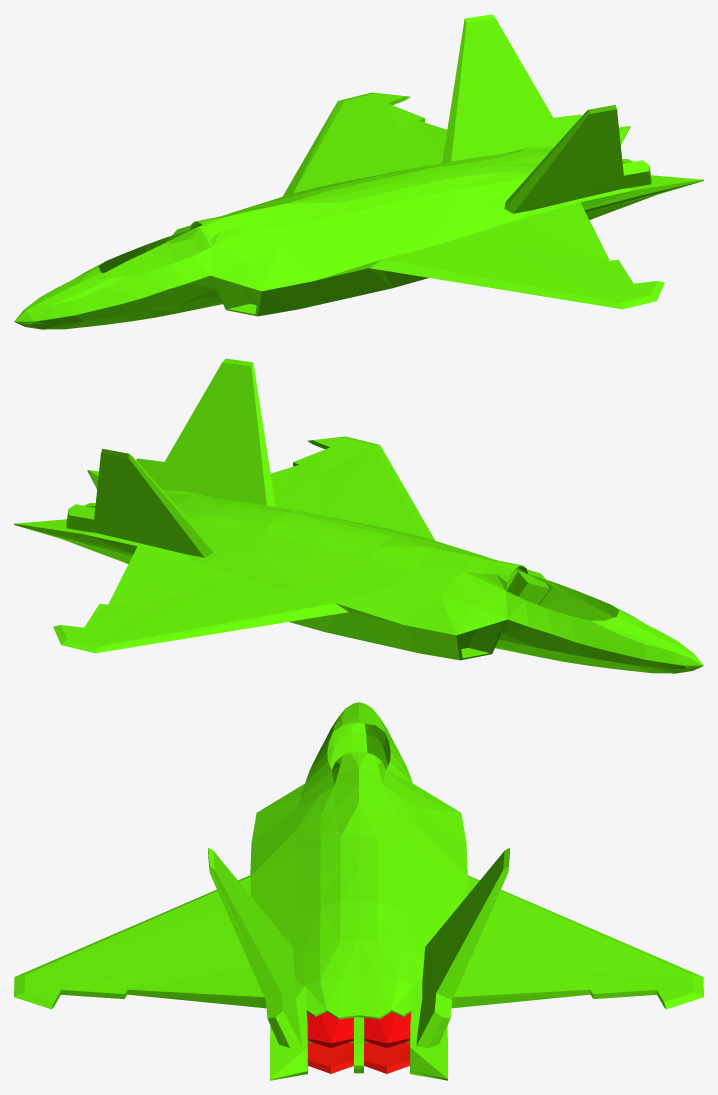
3 views of the same model, one above another, from view 1: azimuth 30°, elevation 25°; view 2: azimuth 150°, elevation 25°; view 3: azimuth 270°, elevation 25° (orthographic). The views are drawn at different scales.
Parts seen in each view (by area): view 1: Vert; view 2: Vert; view 3: Vert, Vert.010, Vert.013.
Boxes of the visible parts, <box> form: Vert: <box>14,14,703,329</box>; Vert: <box>14,358,703,673</box>; Vert: <box>14,702,703,1080</box>; Vert.010: <box>306,1012,411,1047</box>; Vert.013: <box>308,1042,409,1073</box>.
Size of the model in its own units: 3039 by 735 by 2297.
